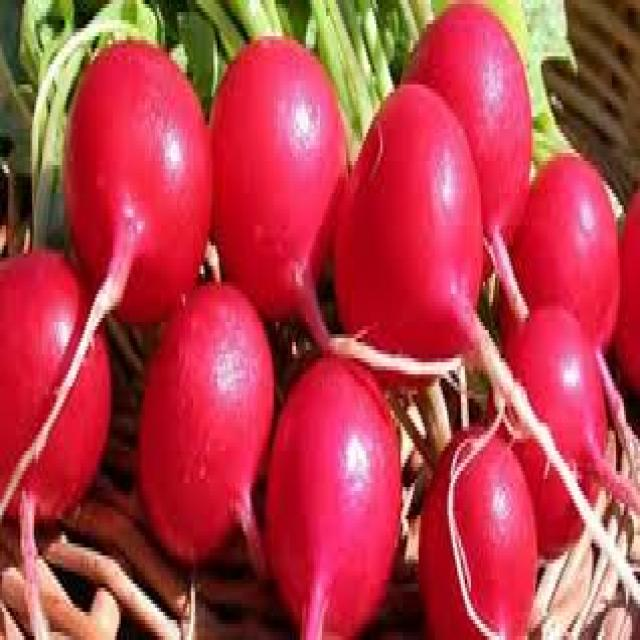rediska: (199, 26, 352, 341), (60, 36, 214, 334), (342, 76, 478, 379), (264, 348, 404, 640), (134, 273, 274, 564), (391, 0, 528, 296), (493, 287, 618, 558), (0, 246, 113, 544), (414, 403, 540, 639), (518, 144, 628, 360), (614, 171, 640, 424)
